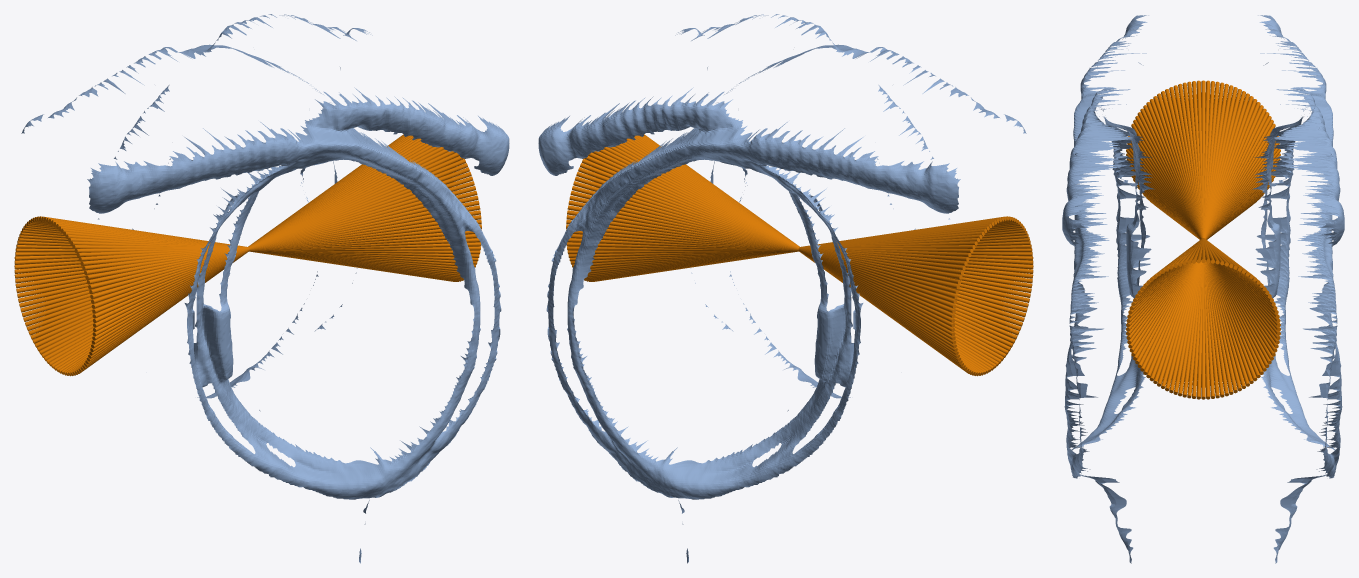
The model's file is A20023522_6145-37-528-7086_DigitalTwin.glb.
3 renders of one model, left to right at view 1: azimuth 30°, elevation 25°; view 2: azimuth 150°, elevation 25°; view 3: azimuth 270°, elevation 25°, orthographic. The views are drawn at different scales.
Parts seen in each view (by area): view 1: world; view 2: world; view 3: world.
Boxes of the visible parts, x1=… form: world: x1=14, y1=14, x2=509, y2=563; world: x1=538, y1=14, x2=1033, y2=563; world: x1=1062, y1=15, x2=1344, y2=563.
Size of the model in its own units: 404 by 479 by 269.
